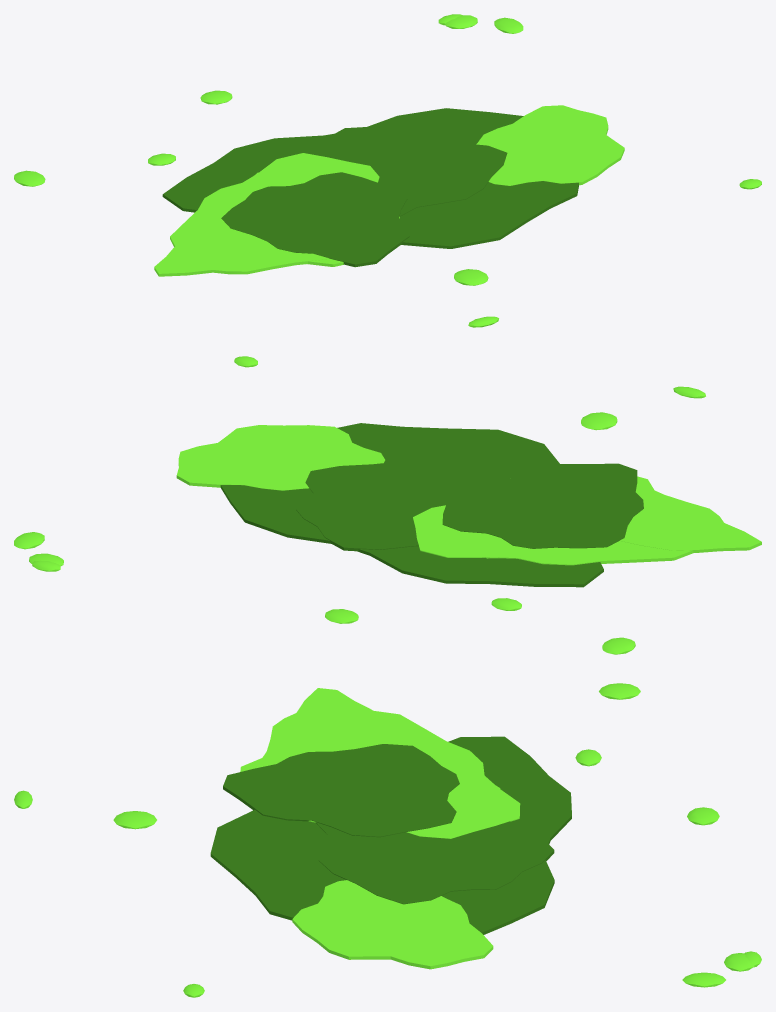
Rendered from SM_80s_Slime_A.glb.
3 renders of one model, top to bottom at view 1: azimuth 30°, elevation 25°; view 2: azimuth 150°, elevation 25°; view 3: azimuth 270°, elevation 25°, orthographic. The views are drawn at different scales.
Visible parts, largest first — view 1: SM_80s_Slime_A; view 2: SM_80s_Slime_A; view 3: SM_80s_Slime_A.
Part boxes in pixels (<box>): SM_80s_Slime_A: <box>14,14,761,327</box>; SM_80s_Slime_A: <box>14,356,761,654</box>; SM_80s_Slime_A: <box>14,683,761,997</box>.
Bounding box in the file's own units: 1.67 × 0.018 × 1.69.
